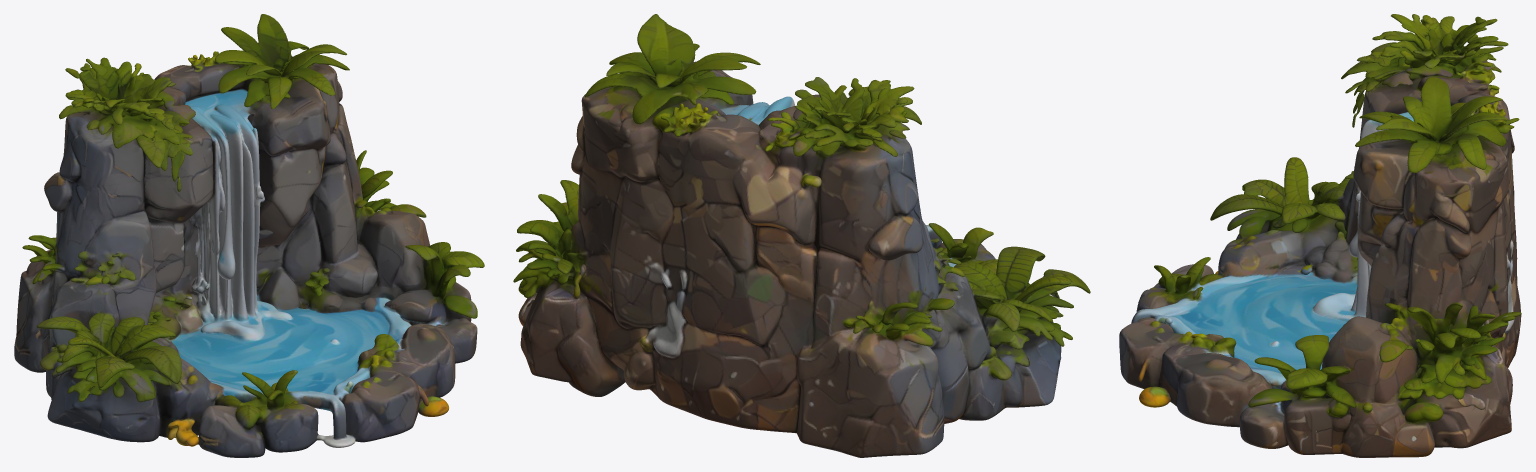
Rendered from waterfall.glb.
3 views of the same model, side by side, from view 1: azimuth 30°, elevation 25°; view 2: azimuth 150°, elevation 25°; view 3: azimuth 270°, elevation 25° (orthographic). The views are drawn at different scales.
Parts seen in each view (by area): view 1: tripo_node_98983db3-ca2b-46ef-8040-dfada6c5ef13; view 2: tripo_node_98983db3-ca2b-46ef-8040-dfada6c5ef13; view 3: tripo_node_98983db3-ca2b-46ef-8040-dfada6c5ef13.
Boxes of the visible parts, x1,y1,x2,y2 form: tripo_node_98983db3-ca2b-46ef-8040-dfada6c5ef13: [14, 14, 484, 457]; tripo_node_98983db3-ca2b-46ef-8040-dfada6c5ef13: [513, 14, 1090, 457]; tripo_node_98983db3-ca2b-46ef-8040-dfada6c5ef13: [1119, 14, 1521, 457].
Size of the model in its own units: 1 by 0.6727 by 0.8091.
Materials: 1 (1 with a texture image).
